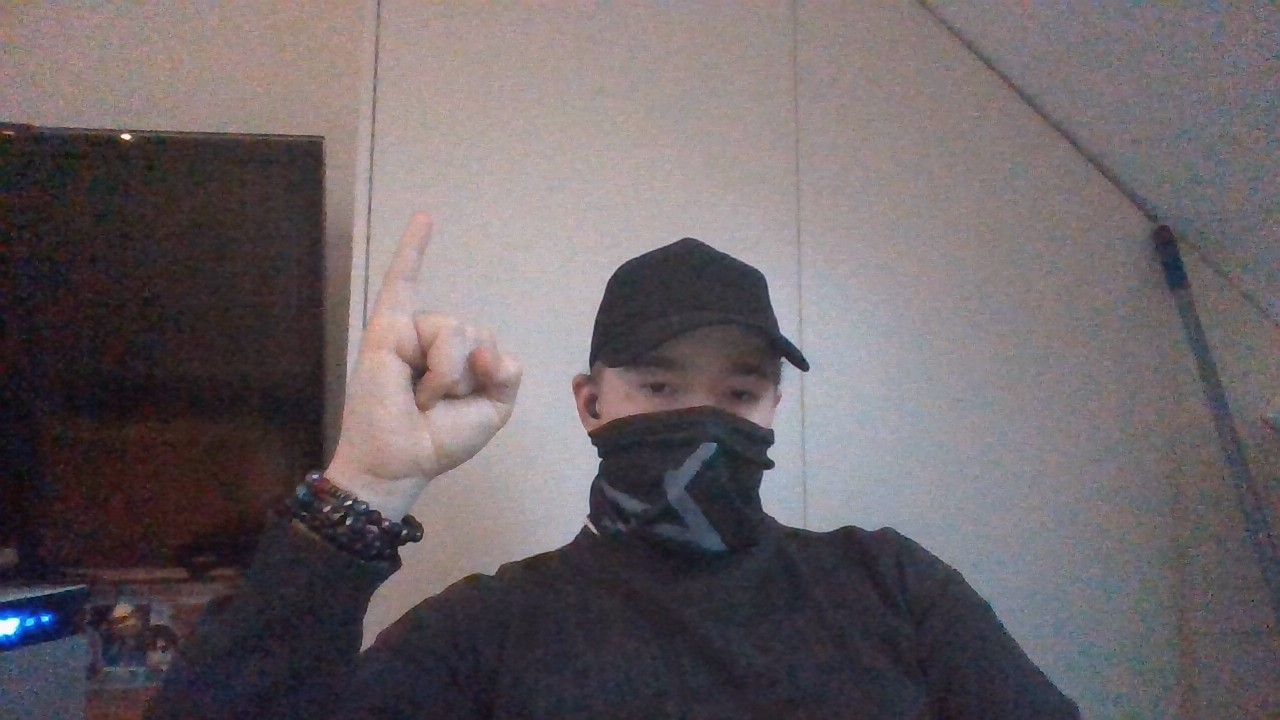I" Sign language: (336, 211, 528, 490)
